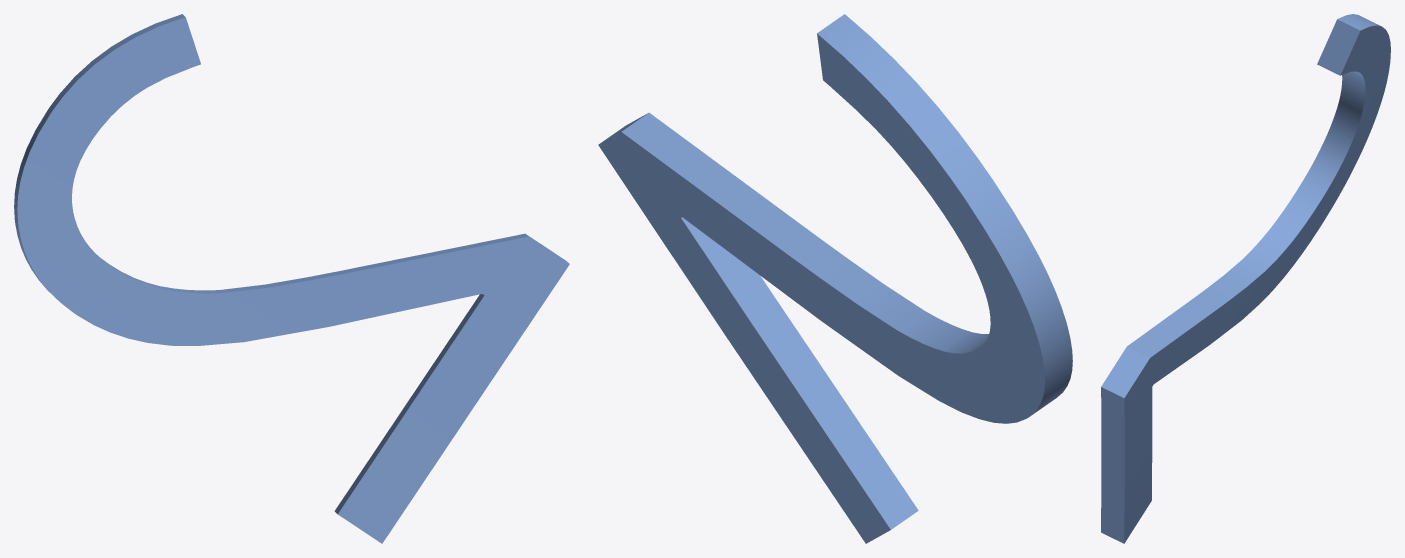
The model's file is New_Number_2.gltf.
The picture shows the model from 3 angles, left to right: view 1: azimuth 30°, elevation 25°; view 2: azimuth 150°, elevation 25°; view 3: azimuth 270°, elevation 25°; orthographic projection. The views are drawn at different scales.
Parts seen in each view (by area): view 1: Part 515; view 2: Part 515; view 3: Part 515.
Boxes of the visible parts, x1,y1,x2,y2 form: Part 515: (14,14,569,543); Part 515: (598,14,1072,543); Part 515: (1101,14,1390,543).
Bounding box in the file's own units: 0.00497 × 0.00509 × 0.00278.
